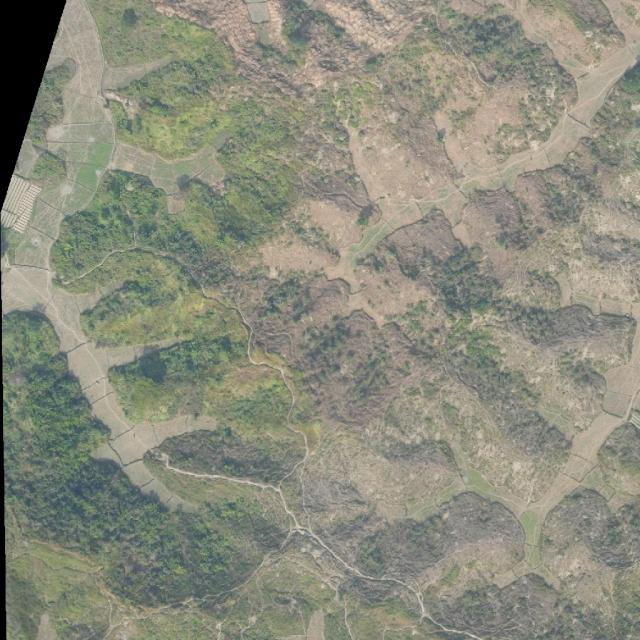greenland: (363, 96, 484, 223)
